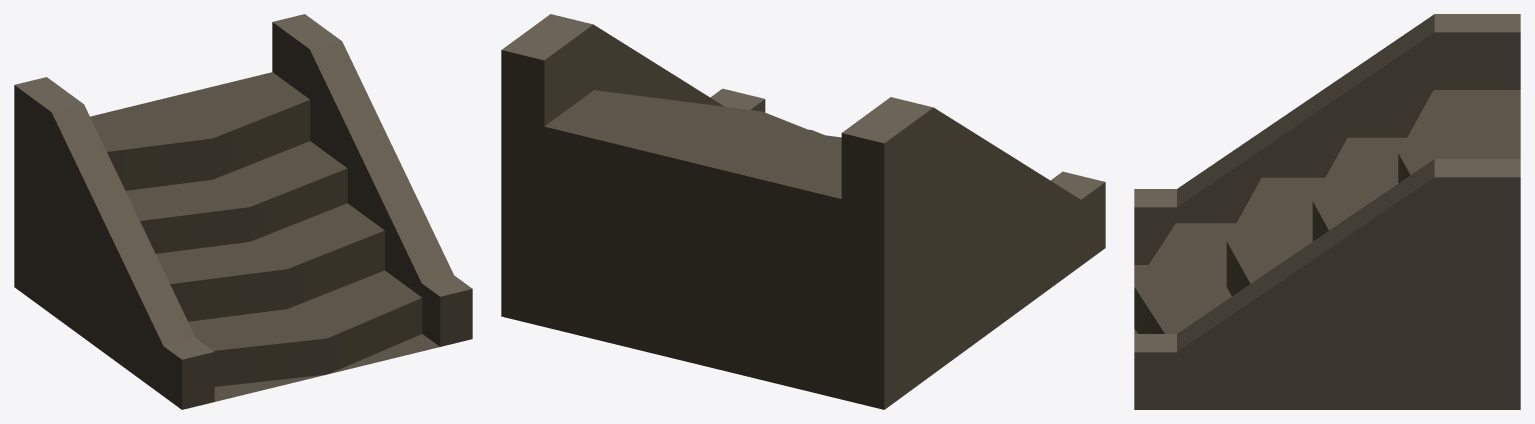
File: SD_Env_Undead_Stairs_01.fbx
The picture shows the model from 3 angles, left to right: view 1: azimuth 30°, elevation 25°; view 2: azimuth 150°, elevation 25°; view 3: azimuth 270°, elevation 25°; orthographic projection. The views are drawn at different scales.
Parts seen in each view (by area): view 1: SD_Env_Undead_Stairs_01; view 2: SD_Env_Undead_Stairs_01; view 3: SD_Env_Undead_Stairs_01.
Boxes of the visible parts, x1,y1,x2,y2 form: SD_Env_Undead_Stairs_01: [14, 14, 472, 409]; SD_Env_Undead_Stairs_01: [501, 14, 1105, 409]; SD_Env_Undead_Stairs_01: [1134, 14, 1520, 409].
Size of the model in its own units: 5 by 3.33 by 5.
